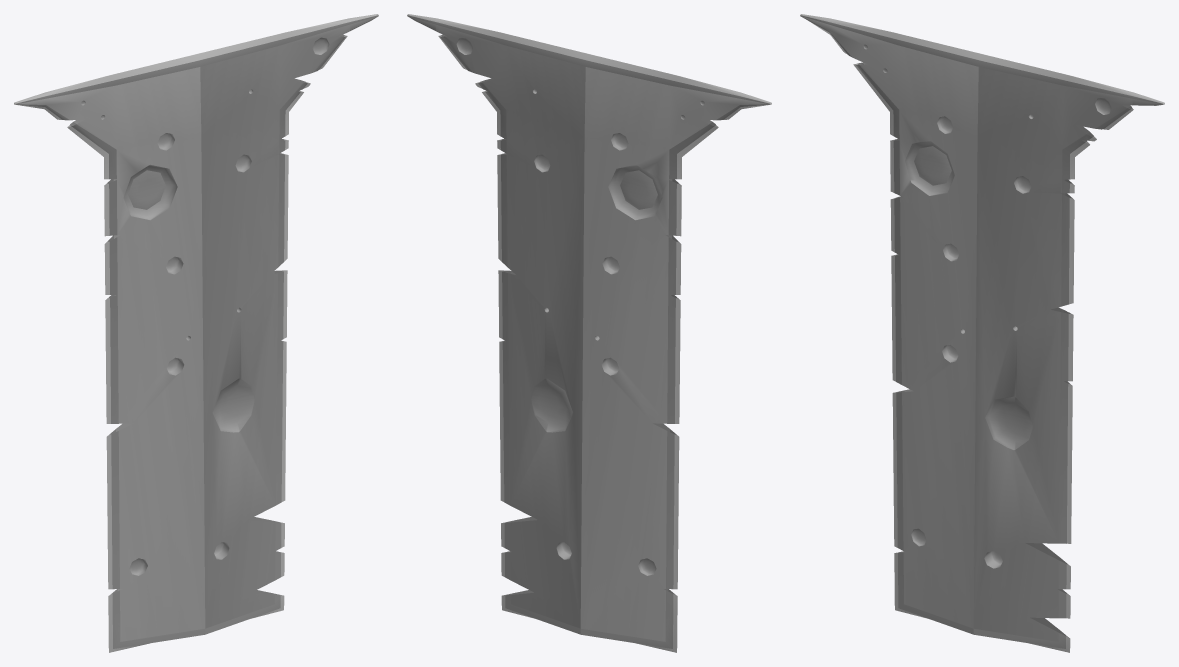
The model's file is stone_blade_bubbles_051.glb.
3 views of the same model, side by side, from view 1: azimuth 30°, elevation 25°; view 2: azimuth 150°, elevation 25°; view 3: azimuth 330°, elevation 25° (orthographic).
Visible parts, largest first — view 1: stone_blade_bubbles.051; view 2: stone_blade_bubbles.051; view 3: stone_blade_bubbles.051.
Part boxes in pixels (x1,y1,x2,y2): stone_blade_bubbles.051: [14, 14, 378, 652]; stone_blade_bubbles.051: [407, 14, 771, 652]; stone_blade_bubbles.051: [800, 14, 1164, 652].
Size of the model in its own units: 7.54 by 11.44 by 0.6326.
1 material, 1 textured.
